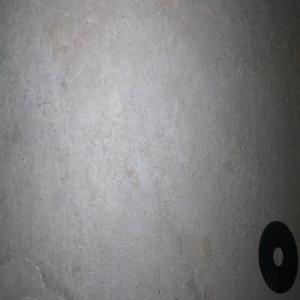Washer: (257, 220, 298, 293)
